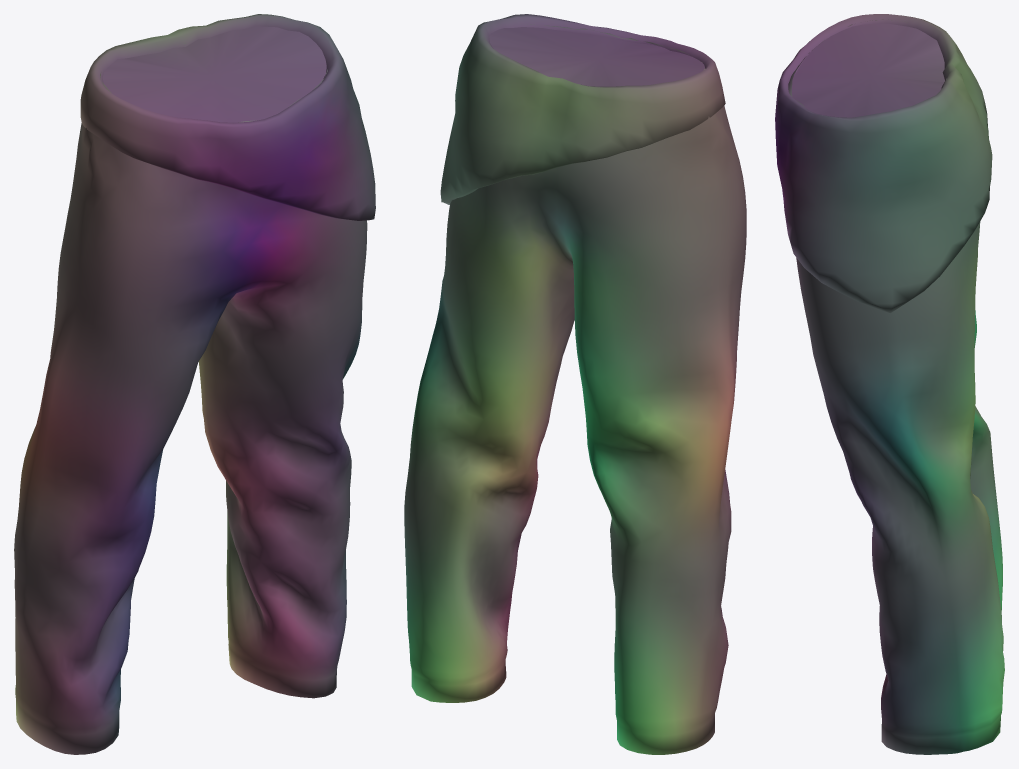
Rendered from SM_HM_Medium_Pirate_Legs.fbx.
3 views of the same model, side by side, from view 1: azimuth 30°, elevation 25°; view 2: azimuth 150°, elevation 25°; view 3: azimuth 270°, elevation 25° (orthographic). The views are drawn at different scales.
Parts seen in each view (by area): view 1: SM_HM_Medium_Pirate_Legs; view 2: SM_HM_Medium_Pirate_Legs; view 3: SM_HM_Medium_Pirate_Legs.
Part boxes in pixels (x1,y1,x2,y2): SM_HM_Medium_Pirate_Legs: (14,14,375,754); SM_HM_Medium_Pirate_Legs: (404,14,746,754); SM_HM_Medium_Pirate_Legs: (775,14,1004,754).
Bounding box in the file's own units: 51.6 × 104 × 34.19.
